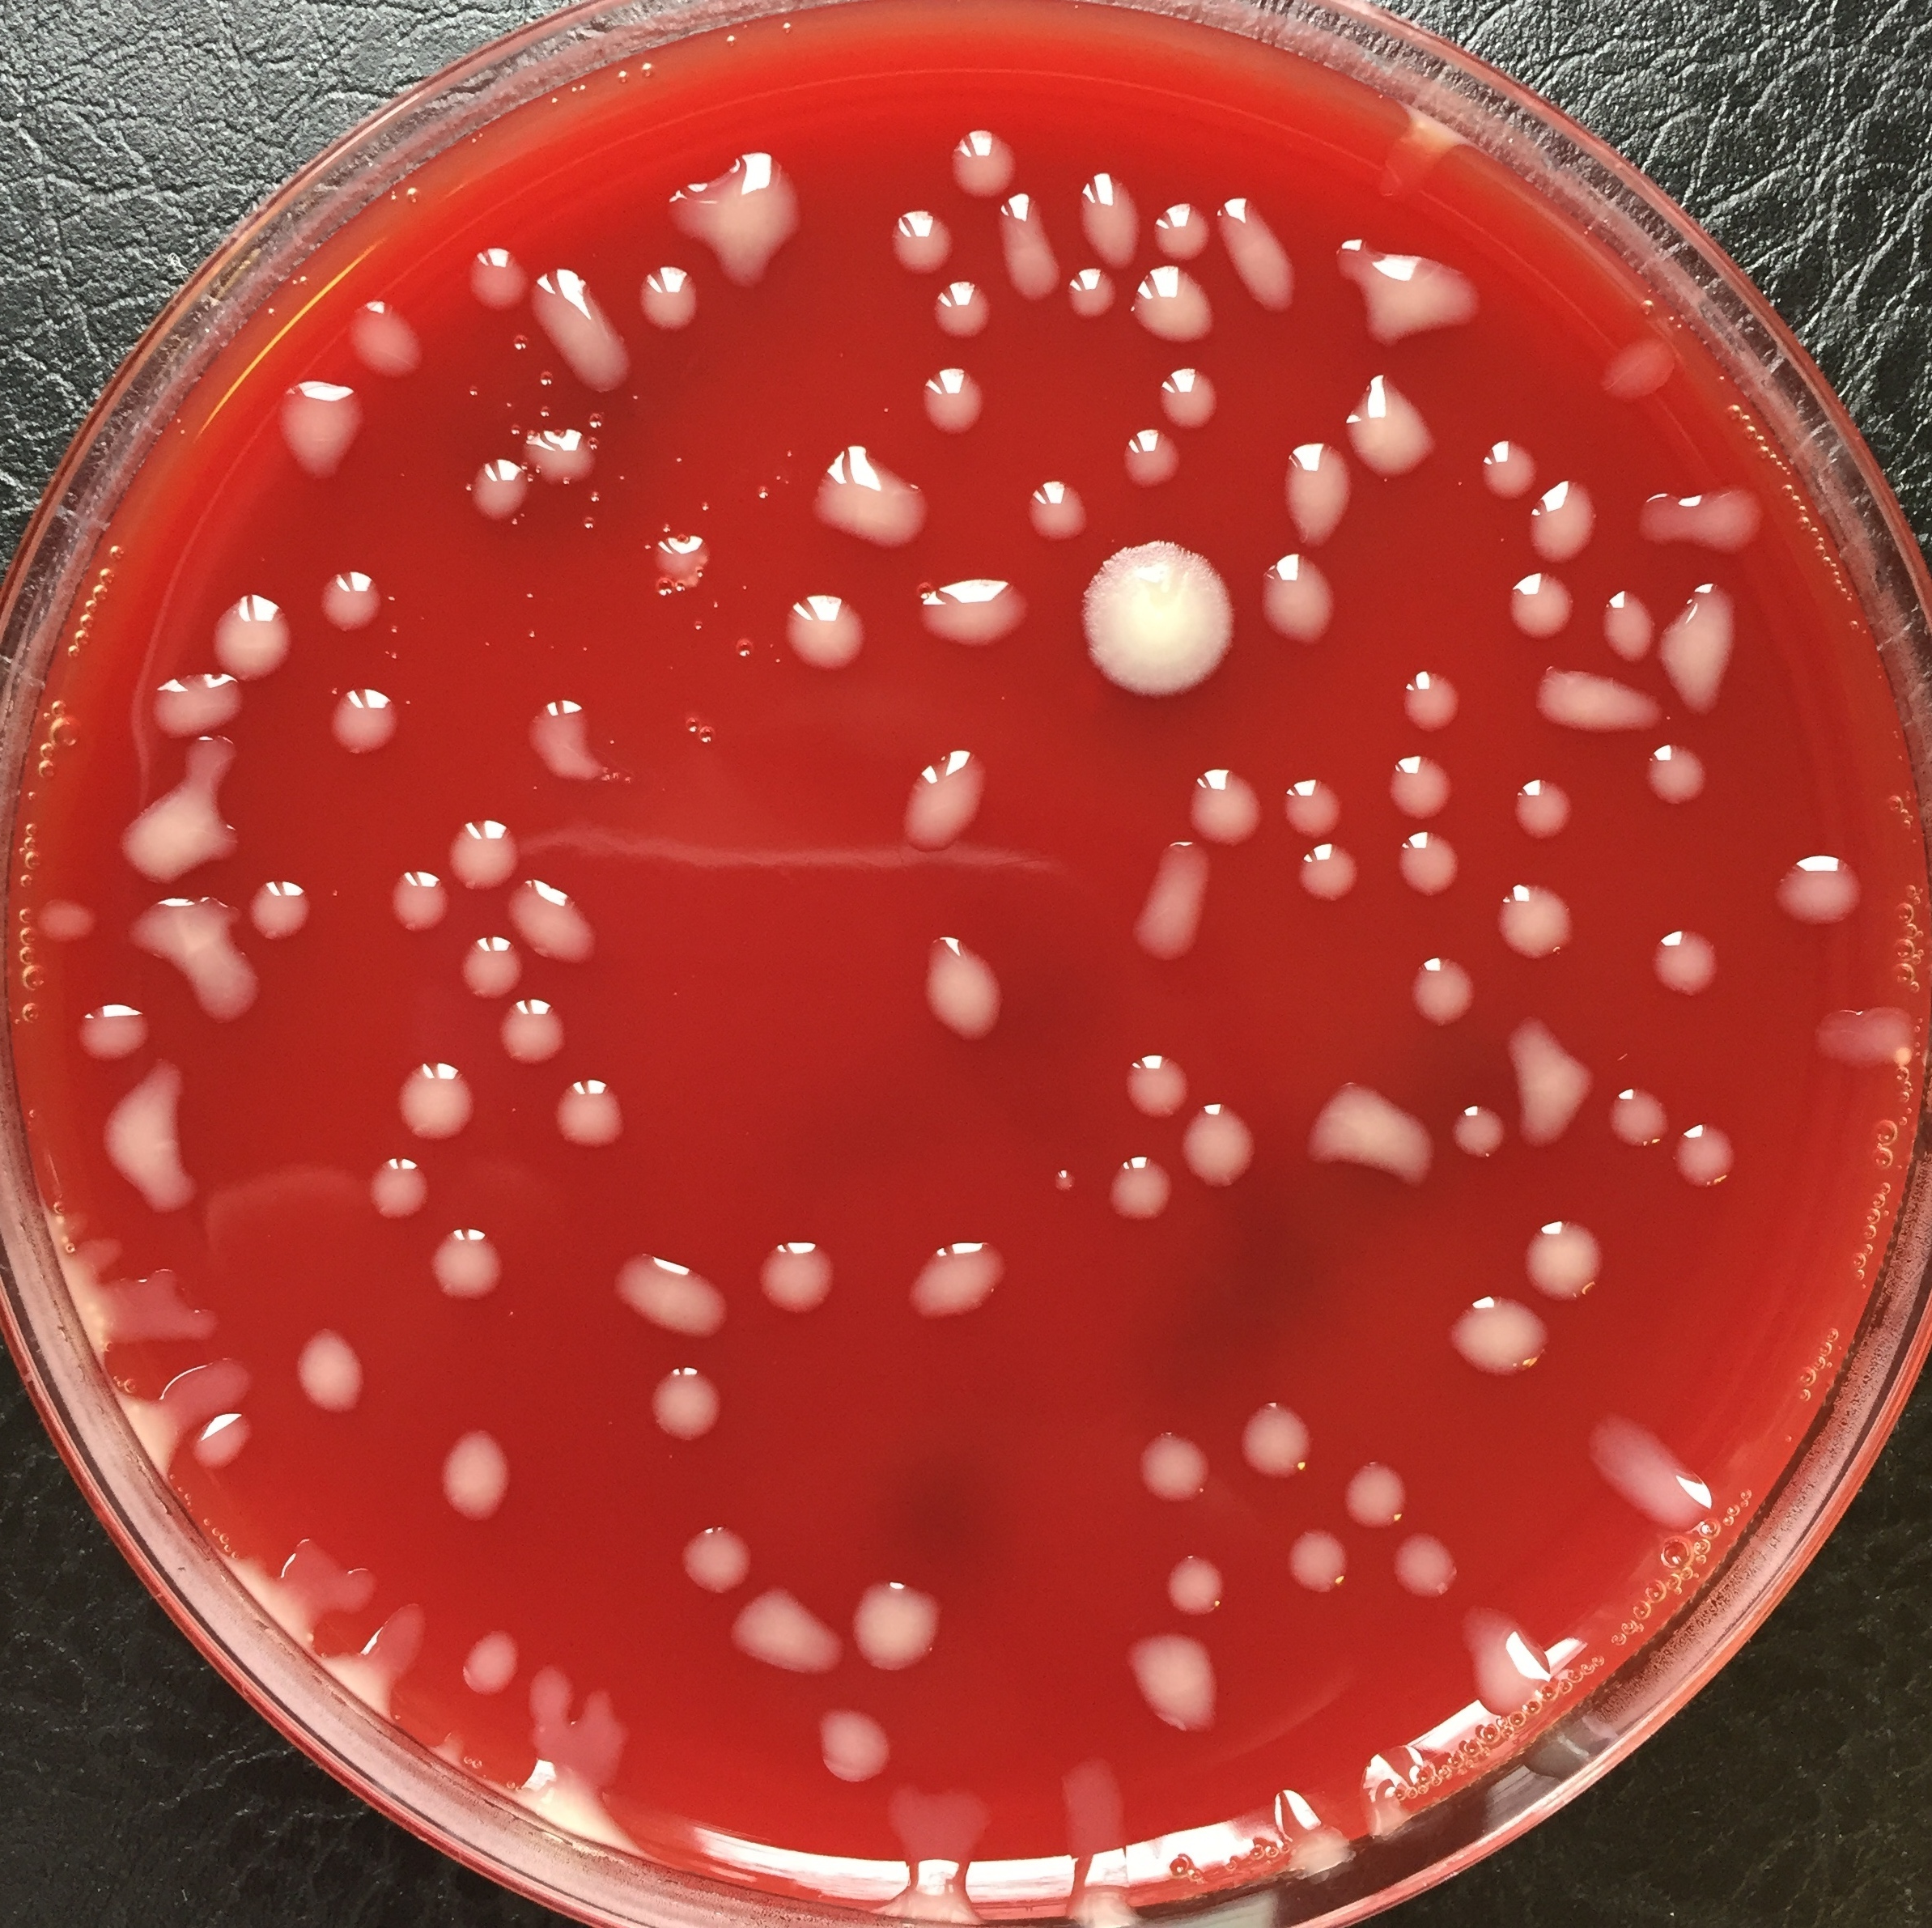sp19: (109, 722, 253, 892), (671, 136, 811, 281), (97, 1058, 208, 1225), (1296, 1072, 1443, 1199), (791, 431, 940, 556), (124, 895, 260, 1031), (600, 1225, 736, 1352), (526, 249, 636, 401), (890, 731, 1012, 867), (1582, 1404, 1713, 1529), (1337, 235, 1492, 339), (509, 1739, 645, 1856), (721, 1582, 848, 1693), (1634, 468, 1782, 561), (917, 922, 1021, 1052), (846, 1559, 950, 1683), (1113, 1628, 1236, 1732), (1662, 574, 1748, 720), (274, 369, 380, 484), (902, 1222, 1010, 1333), (1340, 360, 1436, 484), (1506, 1003, 1593, 1139), (39, 1239, 125, 1370), (1427, 1291, 1551, 1381), (1515, 657, 1662, 731), (1632, 922, 1741, 1020), (1213, 187, 1307, 302), (316, 1630, 420, 1732), (200, 581, 306, 682), (756, 1206, 841, 1331), (1118, 842, 1206, 962), (1054, 1744, 1151, 1852), (917, 561, 1035, 650), (510, 870, 606, 980), (772, 576, 865, 687), (1462, 1598, 1552, 1713), (330, 291, 434, 388), (814, 1693, 909, 1794), (1395, 79, 1494, 175), (109, 1262, 228, 1340), (525, 687, 620, 782), (231, 1534, 320, 1637), (1272, 426, 1353, 537), (1233, 1391, 1317, 1497), (1489, 872, 1582, 968), (390, 1061, 489, 1151), (1588, 320, 1687, 410), (1766, 851, 1874, 932), (1381, 662, 1485, 745), (1519, 461, 1607, 558), (1487, 766, 1588, 851), (1261, 546, 1337, 657), (639, 1363, 731, 1453), (318, 671, 401, 770), (1106, 1142, 1189, 1241), (1803, 998, 1921, 1066), (429, 1213, 509, 1315), (1127, 1407, 1206, 1510), (894, 1843, 989, 1928), (1185, 1086, 1261, 1192), (1270, 1811, 1369, 1893), (443, 1412, 510, 1529), (1174, 763, 1263, 851), (304, 1322, 374, 1432), (1333, 1442, 1422, 1529), (1628, 750, 1724, 830), (1148, 1554, 1247, 1630), (1522, 1206, 1604, 1298), (1132, 267, 1226, 346), (1406, 941, 1482, 1036), (366, 862, 447, 950), (240, 858, 316, 952), (436, 807, 516, 895), (563, 1082, 636, 1178), (1148, 355, 1227, 441), (1286, 842, 1376, 918), (355, 1146, 429, 1238), (881, 1778, 994, 1838), (157, 1354, 258, 1421), (464, 441, 535, 537), (632, 249, 705, 341), (913, 360, 996, 440), (1392, 832, 1471, 915), (996, 187, 1058, 293), (526, 415, 606, 496), (675, 1513, 756, 1593), (1376, 1522, 1466, 1593), (491, 992, 576, 1066), (461, 235, 530, 325), (1081, 157, 1136, 270), (445, 1607, 519, 1690), (1021, 461, 1091, 547), (1501, 567, 1577, 646), (1386, 750, 1468, 825), (1280, 1524, 1353, 1607), (1107, 1047, 1185, 1123), (636, 517, 710, 597), (71, 983, 145, 1063), (1674, 1112, 1743, 1197), (117, 1370, 168, 1483), (1471, 422, 1542, 501), (1113, 417, 1185, 491), (311, 565, 390, 632), (925, 270, 1000, 341), (1593, 581, 1655, 666), (1607, 1072, 1667, 1153), (1280, 766, 1346, 840), (459, 927, 519, 1006), (150, 667, 245, 717), (196, 1398, 254, 1478), (947, 127, 1019, 191), (883, 201, 955, 263), (37, 892, 109, 950), (1053, 267, 1121, 325), (323, 1547, 381, 1615), (1155, 187, 1206, 261), (1072, 1875, 1137, 1923), (1459, 1093, 1503, 1156), (1045, 1151, 1088, 1216), (525, 1670, 577, 1718)
